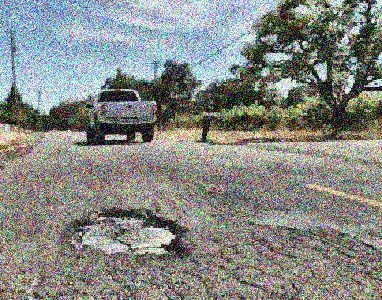pothole: (66, 206, 187, 259)
